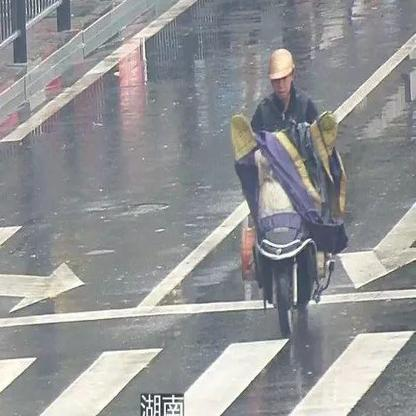target: (225, 45, 351, 338)
